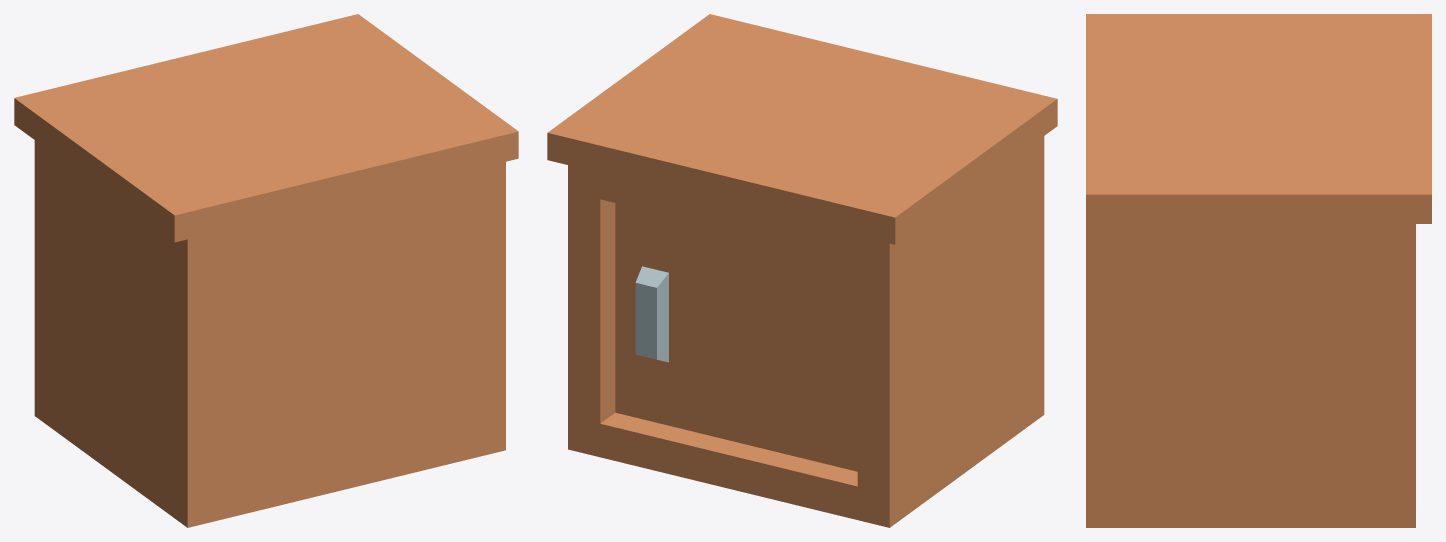
The model's file is cabinetBed.dae.
3 renders of one model, left to right at view 1: azimuth 30°, elevation 25°; view 2: azimuth 150°, elevation 25°; view 3: azimuth 270°, elevation 25°, orthographic. The views are drawn at different scales.
Visible parts, largest first — view 1: cabinetBed; view 2: cabinetBed, door; view 3: cabinetBed.
Boxes of the visible parts, <box> form: cabinetBed: <box>14,14,518,527</box>; cabinetBed: <box>547,14,1057,527</box>; door: <box>615,203,857,471</box>; cabinetBed: <box>1086,14,1431,527</box>.
Bounding box in the file's own units: 0.266 × 0.2332 × 0.215.
